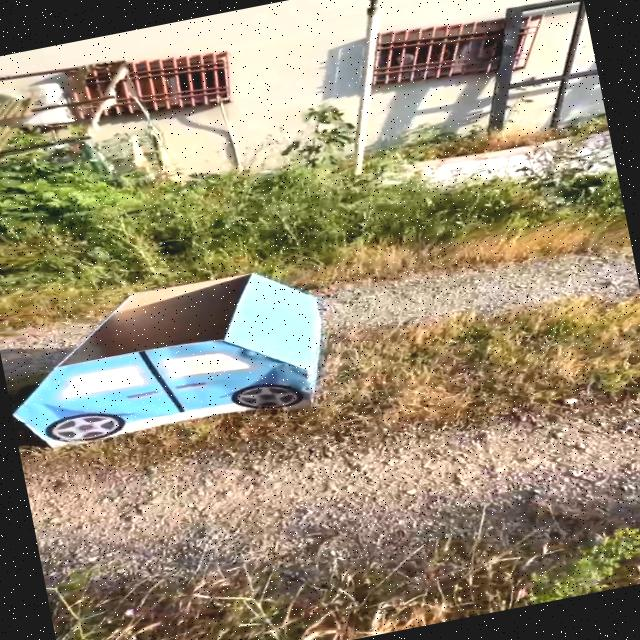blue_car: (0, 217, 394, 473)
